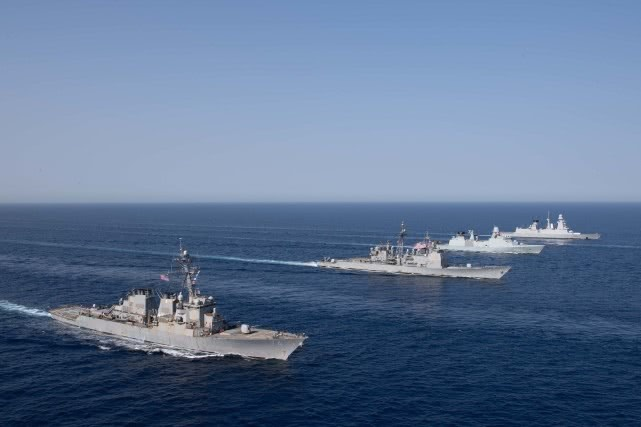warship: (33, 235, 310, 363), (315, 229, 515, 280), (425, 225, 547, 261), (499, 213, 604, 241)
